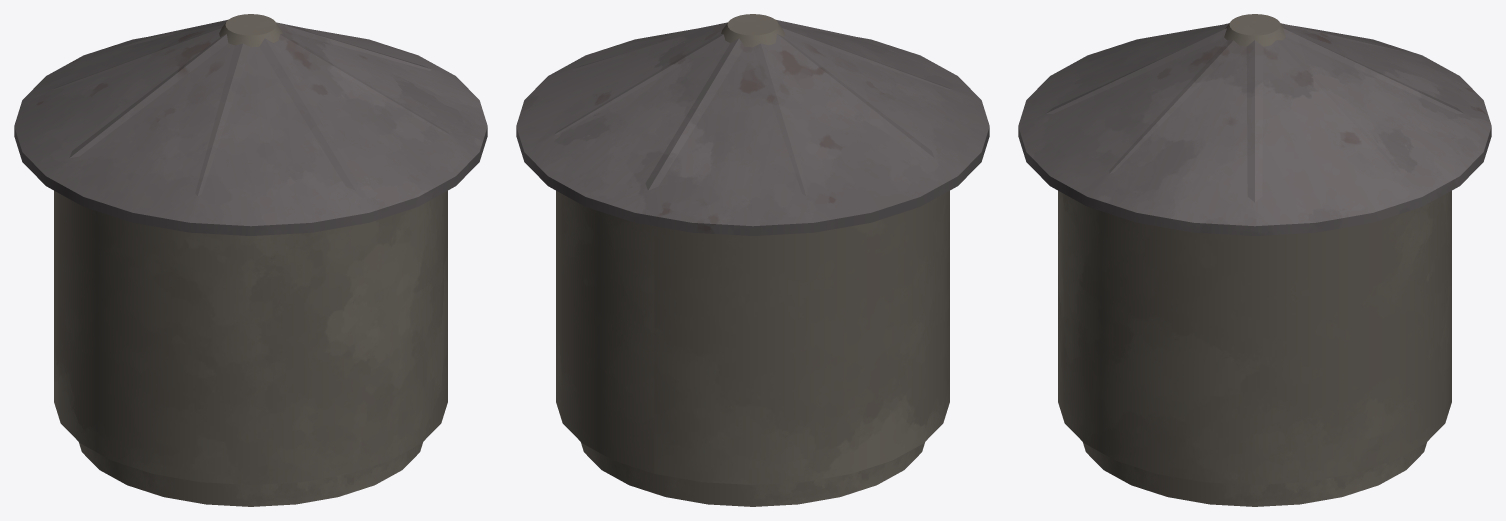
File: Granary_03.fbx
The picture shows the model from 3 angles, left to right: view 1: azimuth 30°, elevation 25°; view 2: azimuth 150°, elevation 25°; view 3: azimuth 270°, elevation 25°; orthographic projection.
Visible parts, largest first — view 1: Circle.002; view 2: Circle.002; view 3: Circle.002.
Part boxes in pixels (box(x1,y1,x2,y2)): Circle.002: box(14, 14, 487, 506); Circle.002: box(516, 14, 989, 506); Circle.002: box(1018, 14, 1491, 506).
Size of the model in its own units: 945 by 898 by 945.
